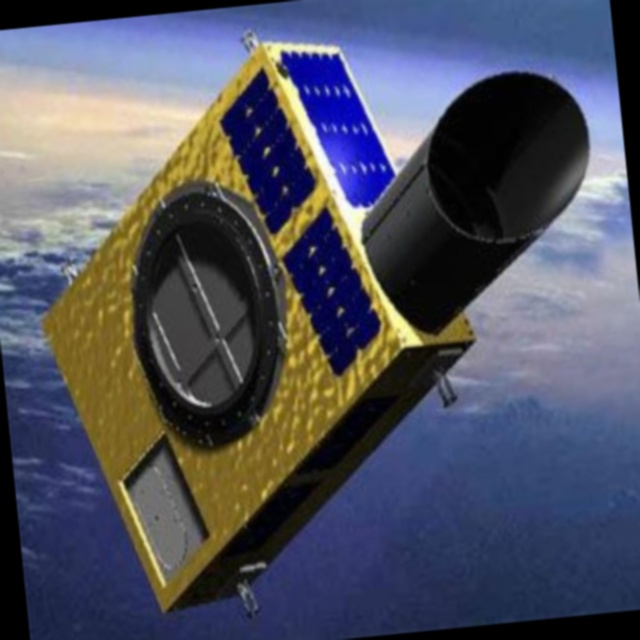large_debris: (12, 0, 612, 625)
